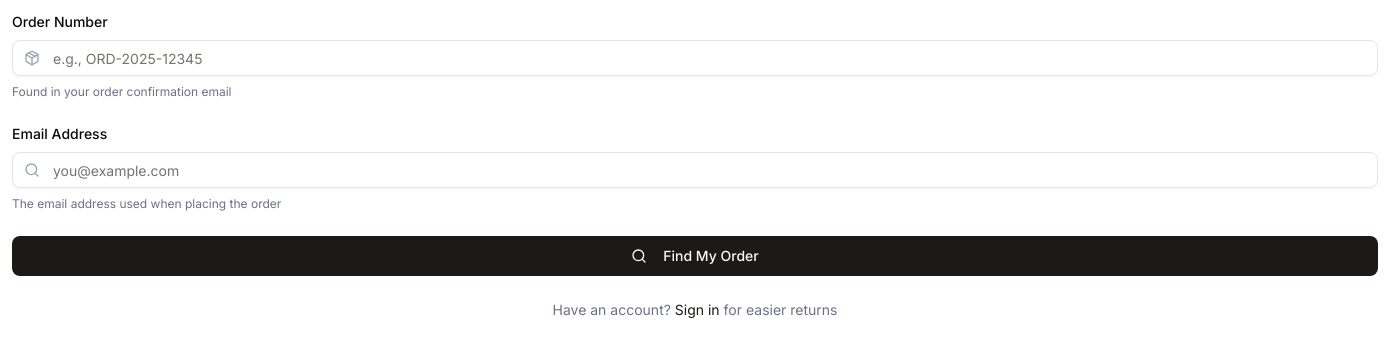
it: GuestReturnForm › shows validation error for empty email
Step 1. Type "ORD-123" into the field labelled "Order Number" → (695, 58), box [12,40,1378,76]
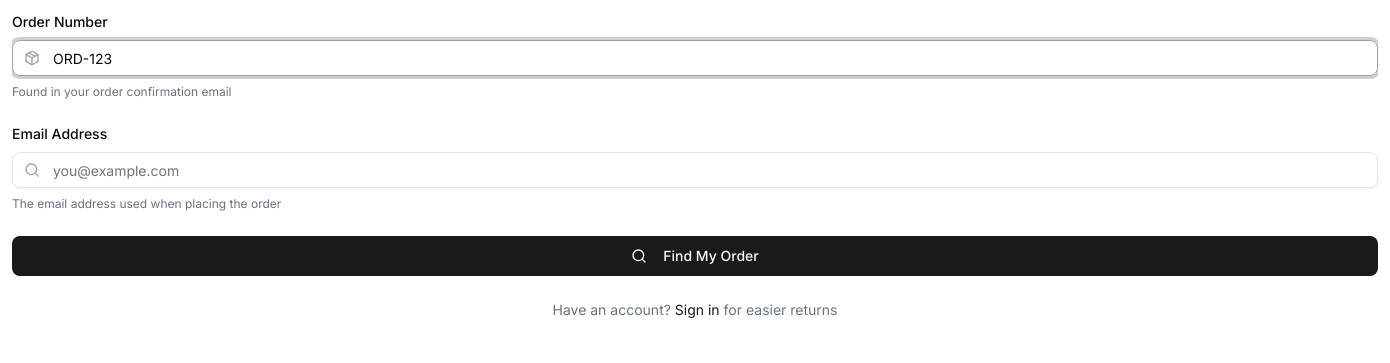
Step 2. Click the button "Find My Order" → (695, 256), box [12,236,1378,276]
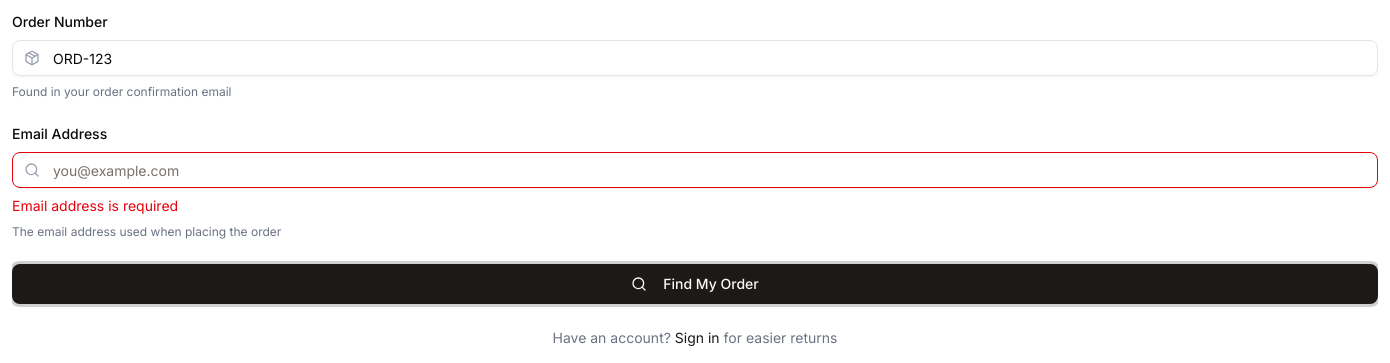
Result: the text "Email address is required" is shown at [12,197,178,214]
